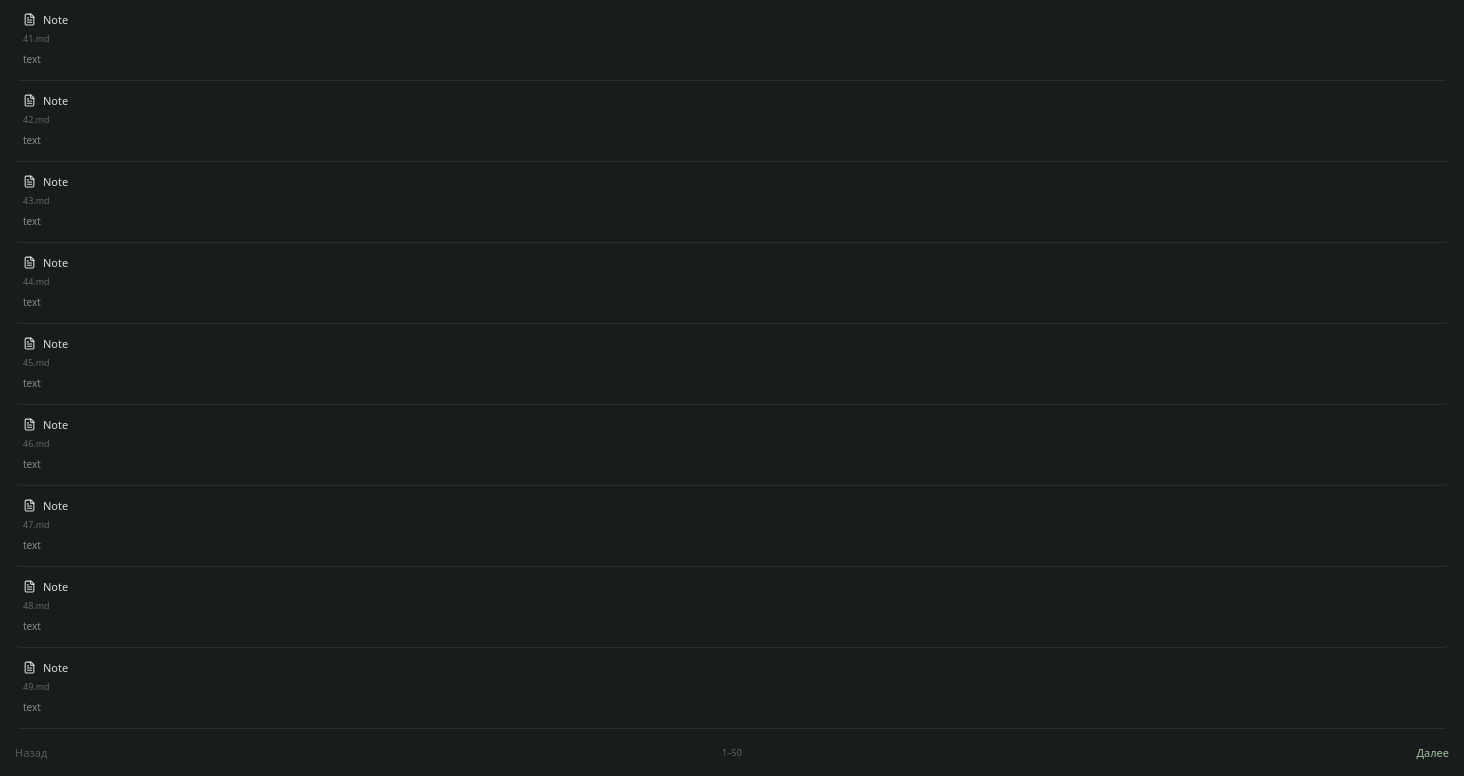
Test: shows pagination only when needed and keeps access to the previous page
(page scrolled)
expect the text "1–50" is shown: met, box x1=722 y1=746 x2=742 y2=759
Click the button "Далее" at point(1433, 752), box x1=1416 y1=741 x2=1449 y2=764
(page scrolled)
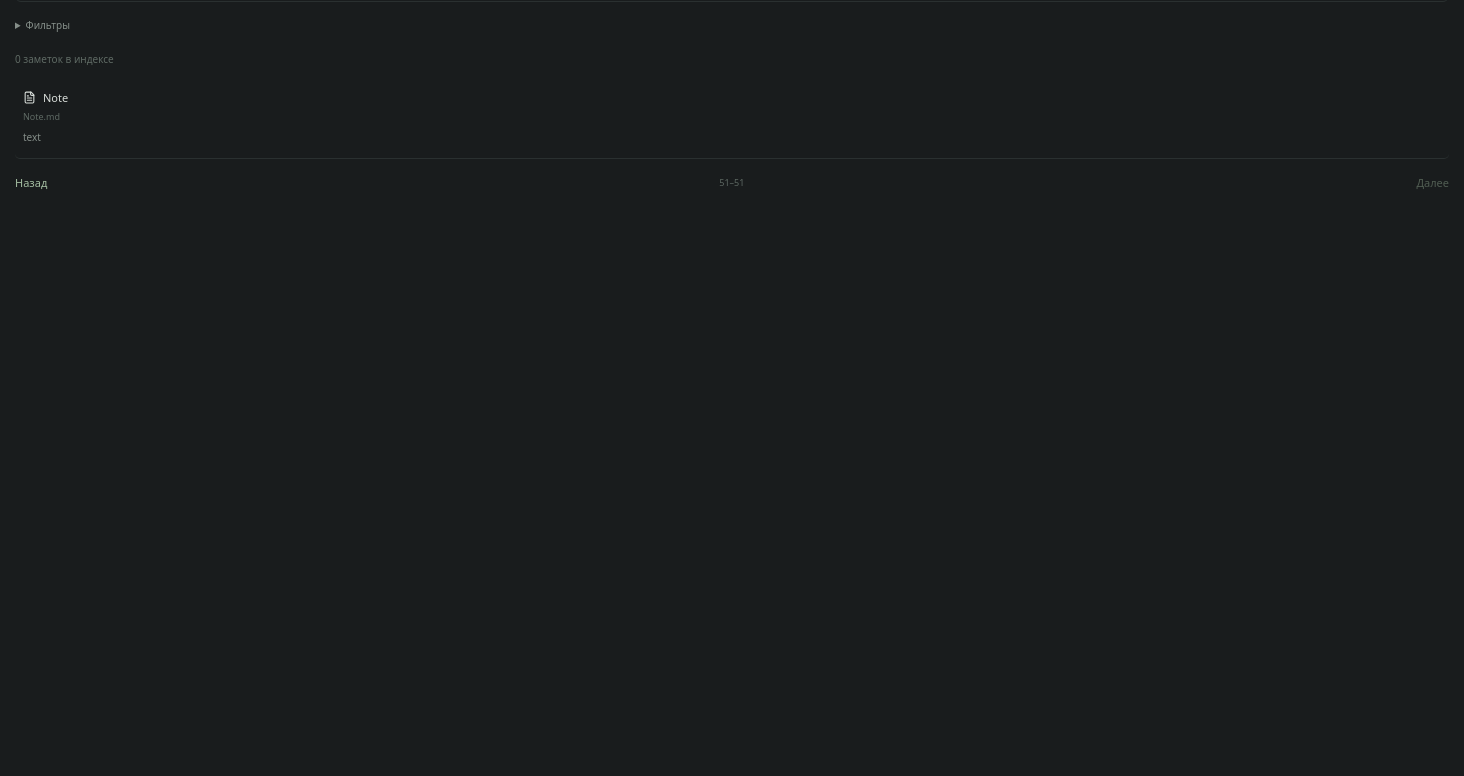
expect the text "51–51" is shown: met, box x1=719 y1=176 x2=744 y2=189
expect the button "Назад" is enabled: met
Click the button "Назад" at point(31, 182), box x1=15 y1=171 x2=47 y2=194
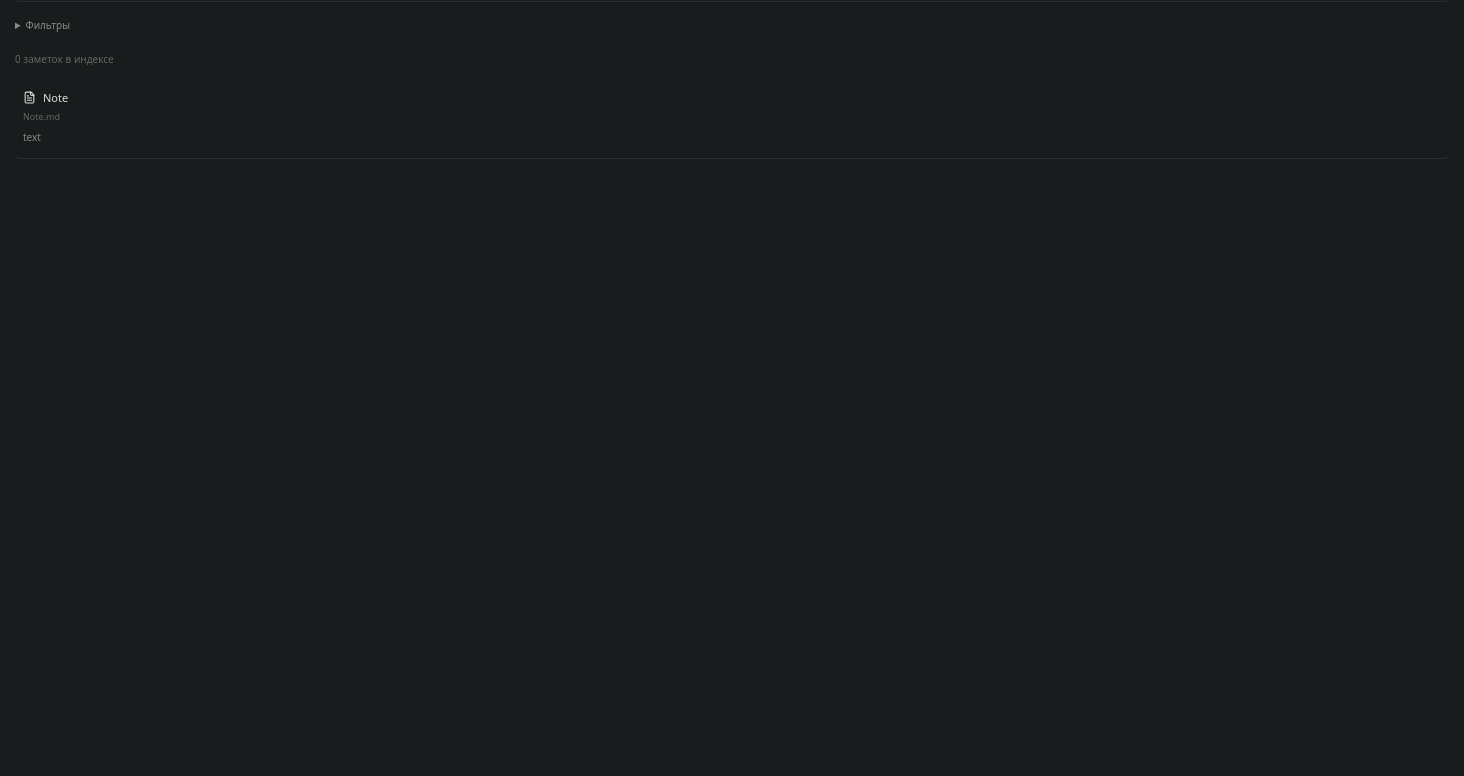
expect the button "Далее" is gone: met
